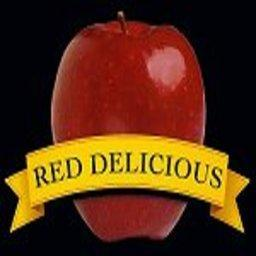apple: (52, 20, 206, 239)
